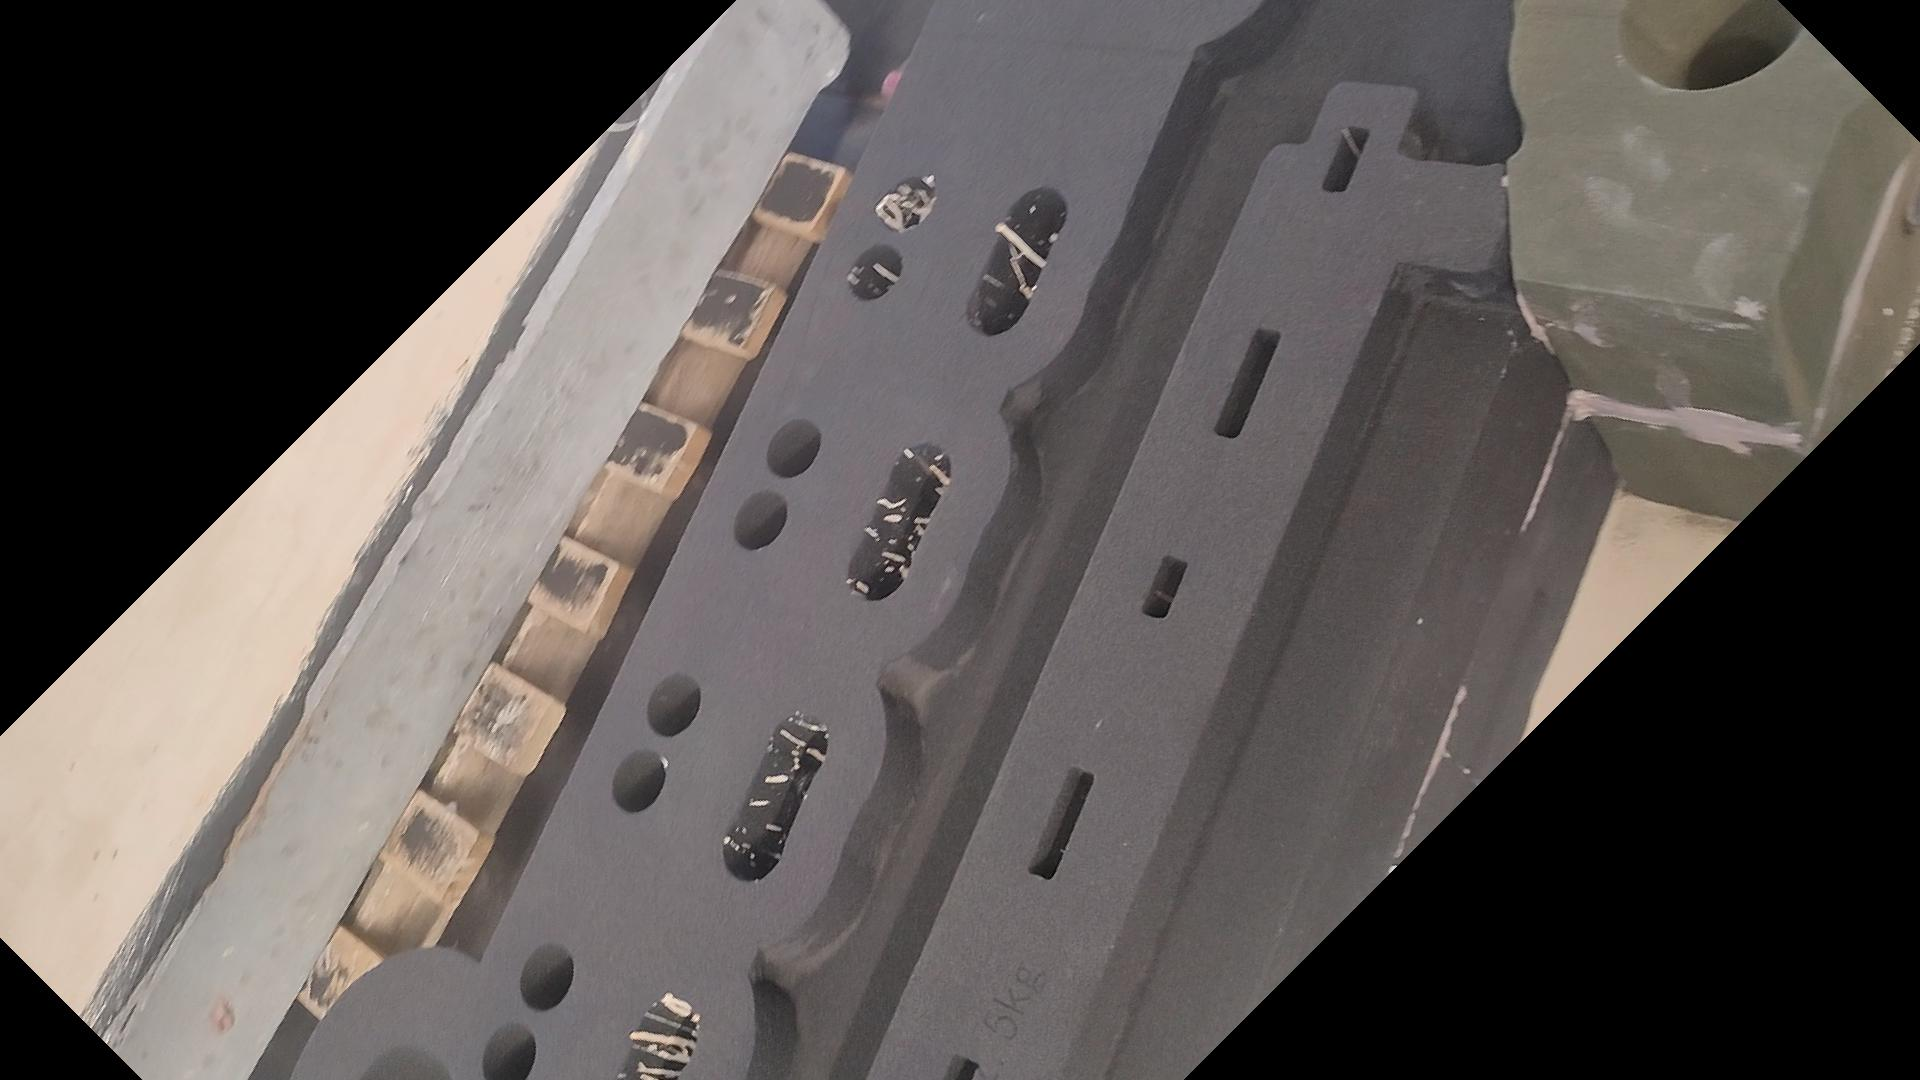pouring hole: (1611, 1, 1799, 88), (345, 1046, 452, 1080)
